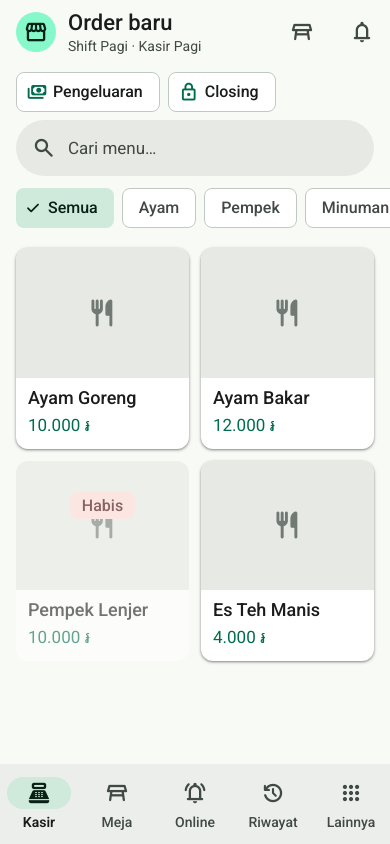
it: Kasir – pilih menu › shift terbuka: layar kasir dengan menu, badge jumlah, menu habis disabled, bar bawah
The width and height of the screenshot is (390, 844).
Expected: the button "Pempek Lenjer 10.000 ៛ Habis" is disabled, 16,460 -> 189,661
Click the button "Es Teh Manis 4.000 ៛".
click(288, 561)  # box 201,460 -> 374,661
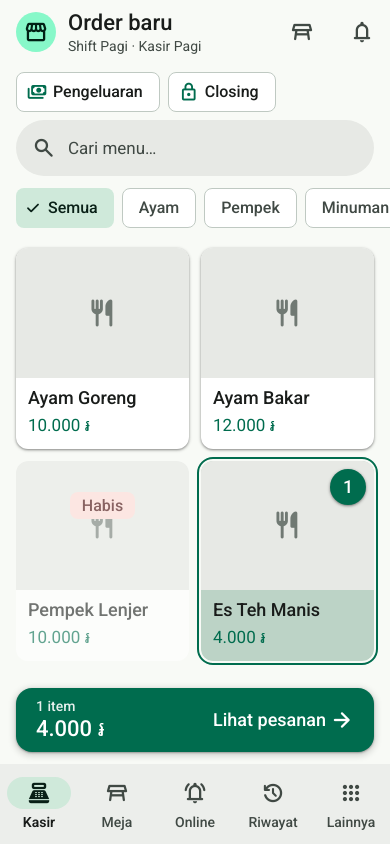
Click the button "Es Teh Manis 4.000 ៛ 1".
click(288, 561)  # box 201,460 -> 374,661
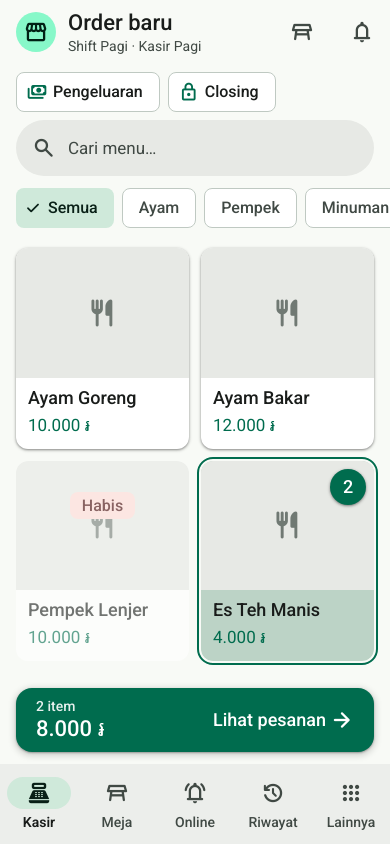
Result: the button "Es Teh Manis 4.000 ៛ 2" is shown at 201,460 -> 374,661
Result: the button "2 item 8.000 ៛ Lihat pesanan" is shown at 16,688 -> 374,752
menu dengan opsi membuka lembar opsi
Click the button "Ayam Goreng 10.000 ៛".
click(102, 348)  # box 16,248 -> 189,448
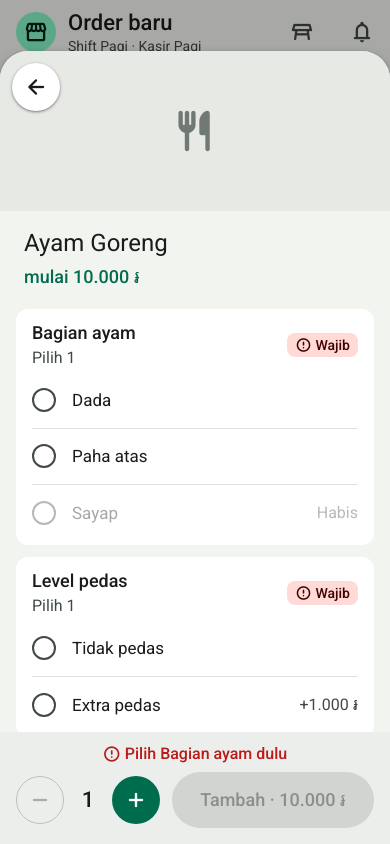
Result: the text "Bagian ayam" is shown at 32,321 -> 136,345
